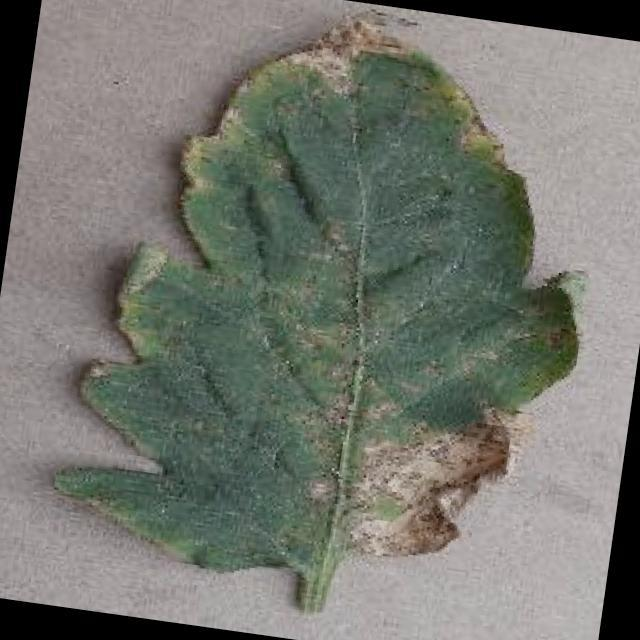Tomato bacterial spot leaf: (27, 0, 632, 620)
